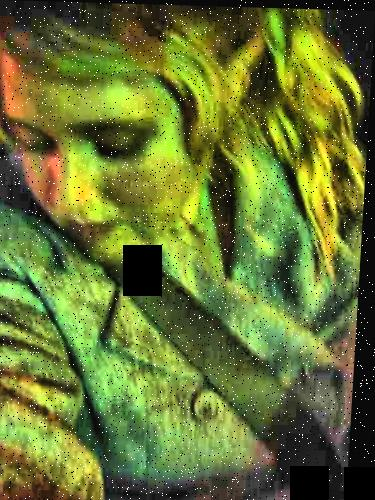seatbelt: (104, 237, 334, 440)
